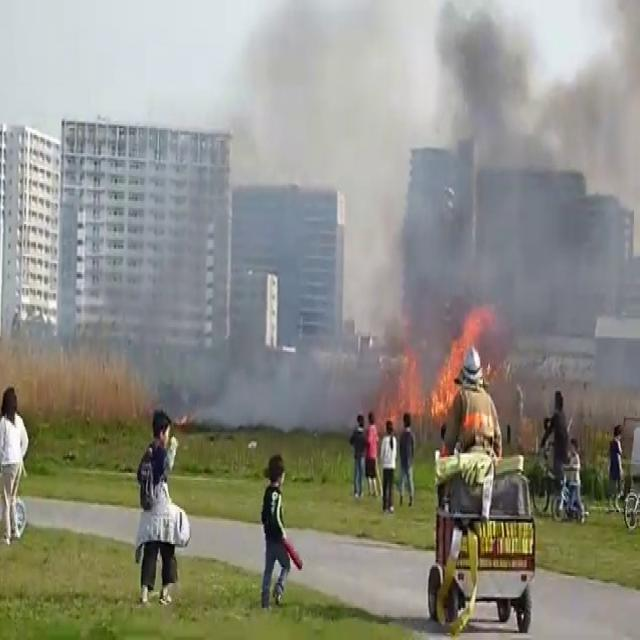Fire: (376, 306, 504, 428)
Smoke: (359, 0, 640, 404), (172, 0, 401, 418)
